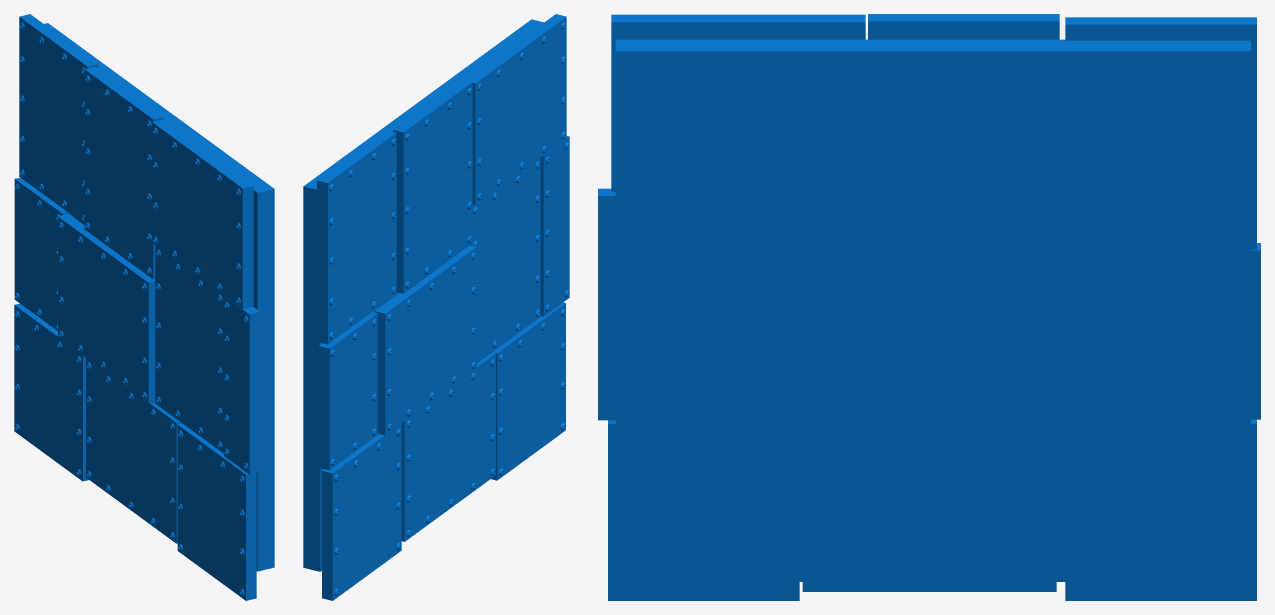
Rendered from WallLong_steel.fbx.
3 views of the same model, side by side, from view 1: azimuth 30°, elevation 25°; view 2: azimuth 150°, elevation 25°; view 3: azimuth 270°, elevation 25° (orthographic). The views are drawn at different scales.
Visible parts, largest first — view 1: WallLong_Steel; view 2: WallLong_Steel; view 3: WallLong_Steel.
Boxes of the visible parts, x1,y1,x2,y2 form: WallLong_Steel: [14, 14, 274, 600]; WallLong_Steel: [303, 14, 569, 600]; WallLong_Steel: [598, 14, 1260, 600].
Bounding box in the file's own units: 87.31 × 918 × 951.
